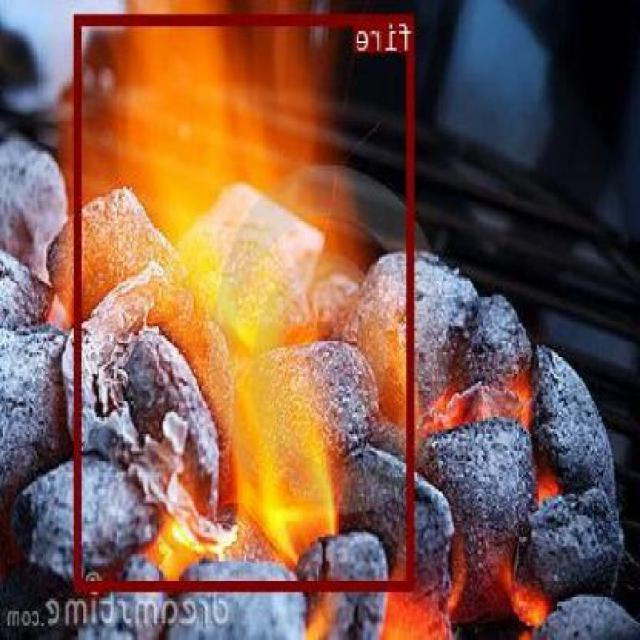fire: (75, 13, 414, 589)
